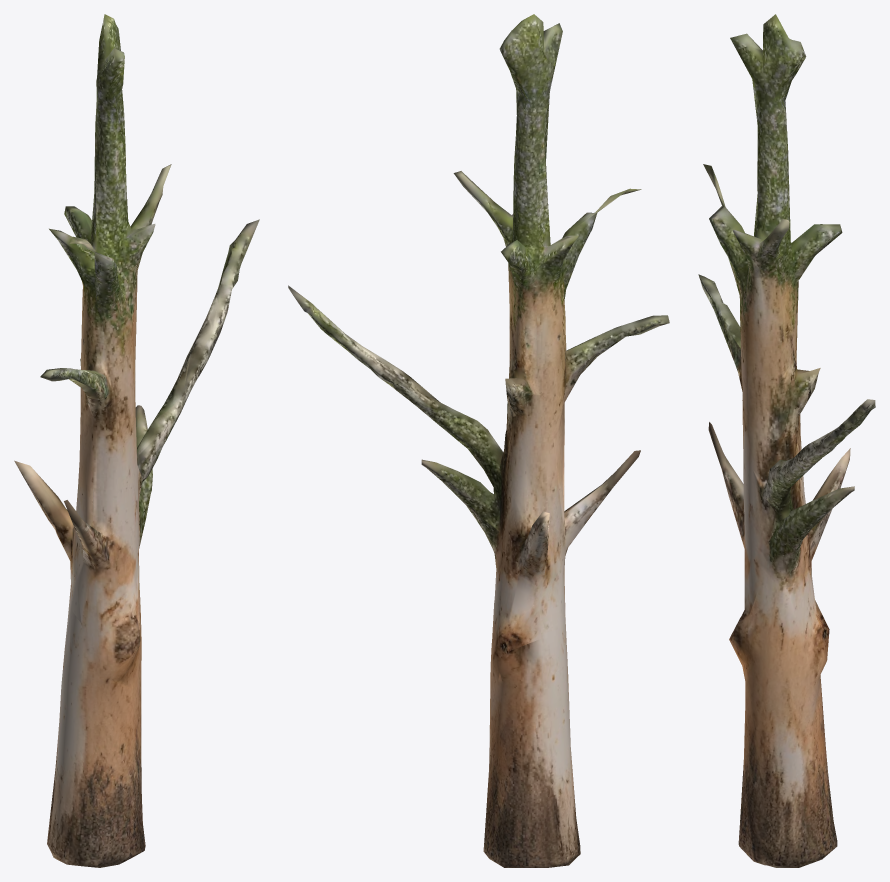
Rendered from tree_eucalyptus.glb.
3 views of the same model, side by side, from view 1: azimuth 30°, elevation 25°; view 2: azimuth 150°, elevation 25°; view 3: azimuth 270°, elevation 25° (orthographic).
Parts seen in each view (by area): view 1: geometry_0; view 2: geometry_0; view 3: geometry_0.
Part boxes in pixels (x1,y1,x2,y2): geometry_0: [14, 14, 259, 867]; geometry_0: [288, 14, 669, 867]; geometry_0: [698, 14, 875, 867].
Bounding box in the file's own units: 0.4082 × 1.09 × 0.2081.
1 material, 1 textured.
